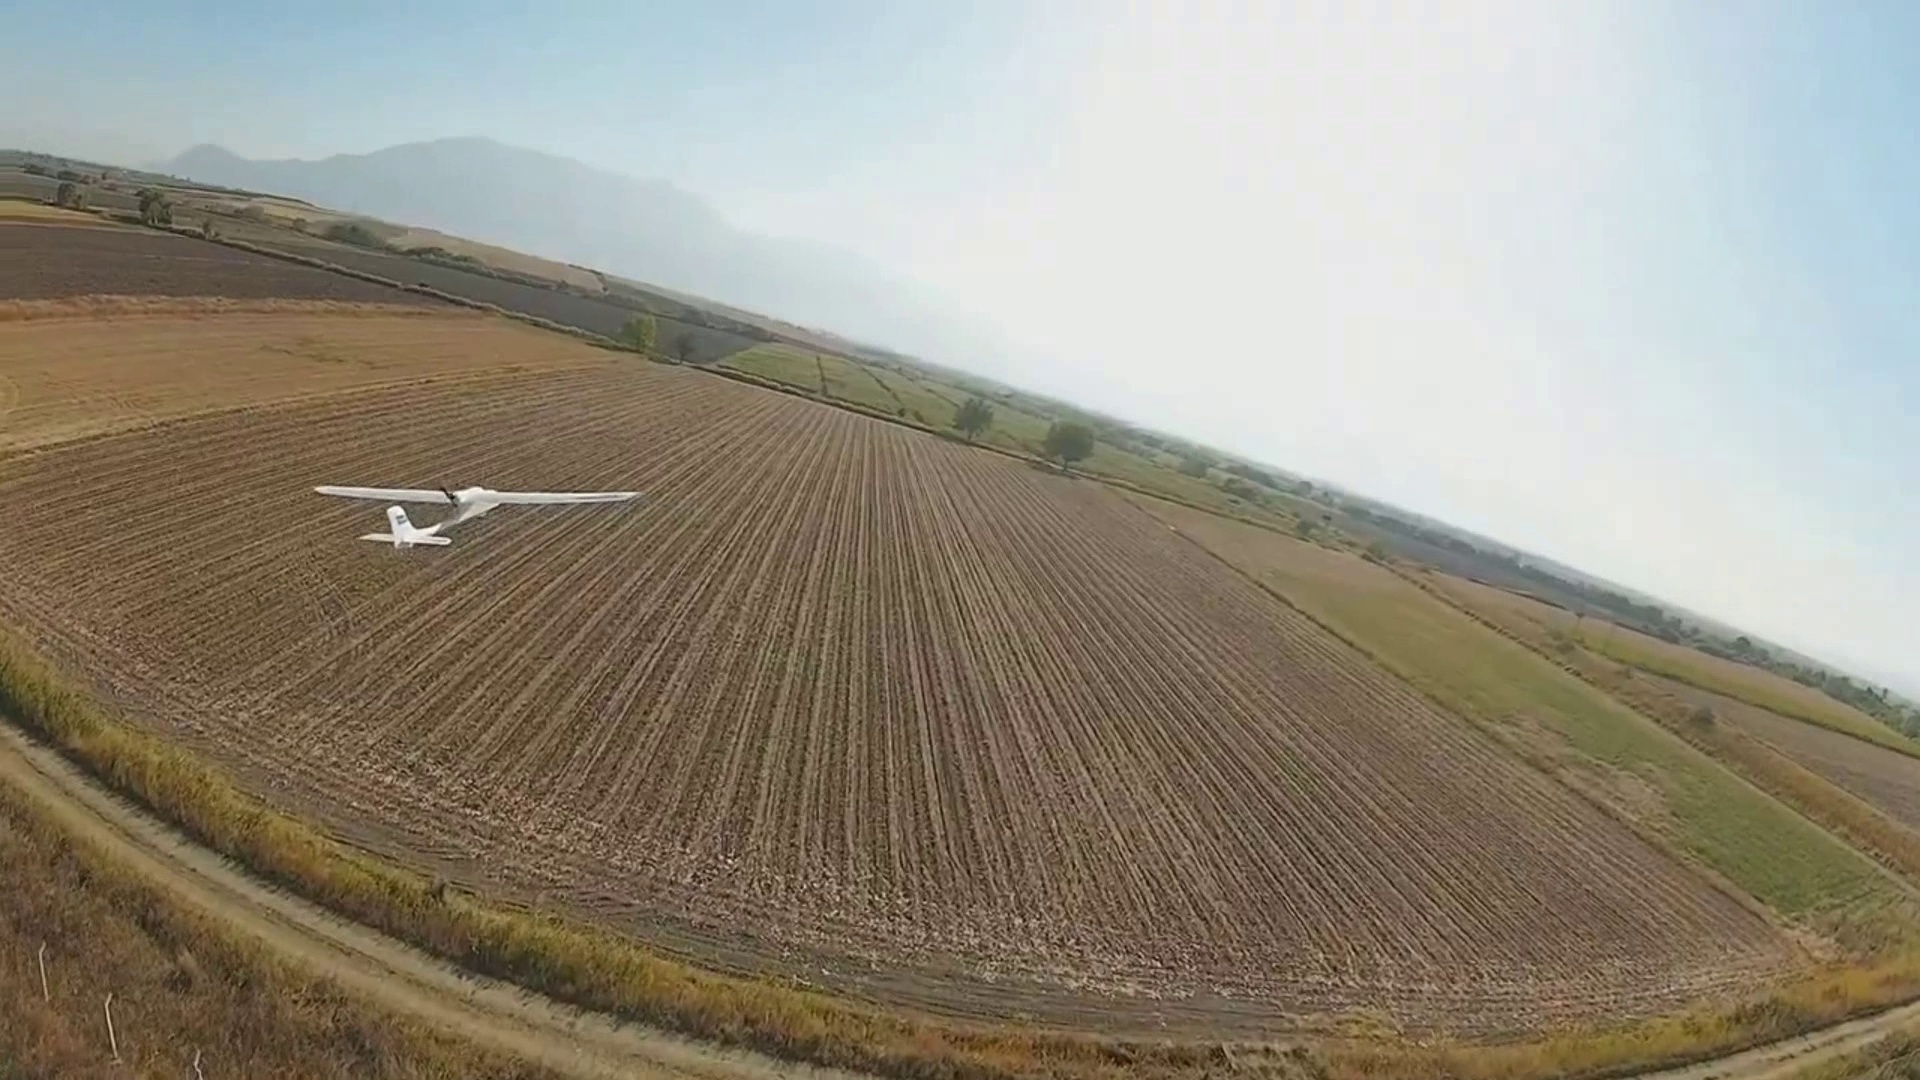airplane: (310, 477, 642, 550)
